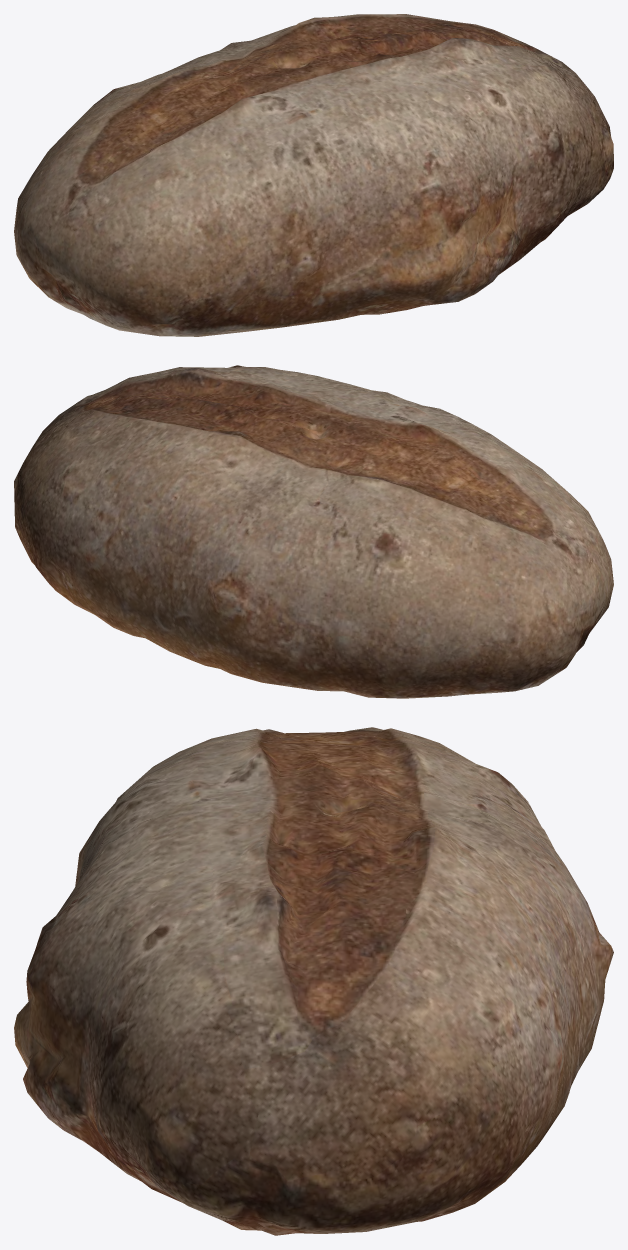
File: bread_d.glb
The picture shows the model from 3 angles, top to bottom: view 1: azimuth 30°, elevation 25°; view 2: azimuth 150°, elevation 25°; view 3: azimuth 270°, elevation 25°; orthographic projection. The views are drawn at different scales.
Parts seen in each view (by area): view 1: whplejz_LOD0_TIER2_000; view 2: whplejz_LOD0_TIER2_000; view 3: whplejz_LOD0_TIER2_000.
Part boxes in pixels (x1,y1,x2,y2): whplejz_LOD0_TIER2_000: (14, 14, 613, 336); whplejz_LOD0_TIER2_000: (14, 365, 613, 698); whplejz_LOD0_TIER2_000: (14, 727, 613, 1235).
Bounding box in the file's own units: 0.2313 × 0.0828 × 0.153.
Materials: 1 (1 with a texture image).
